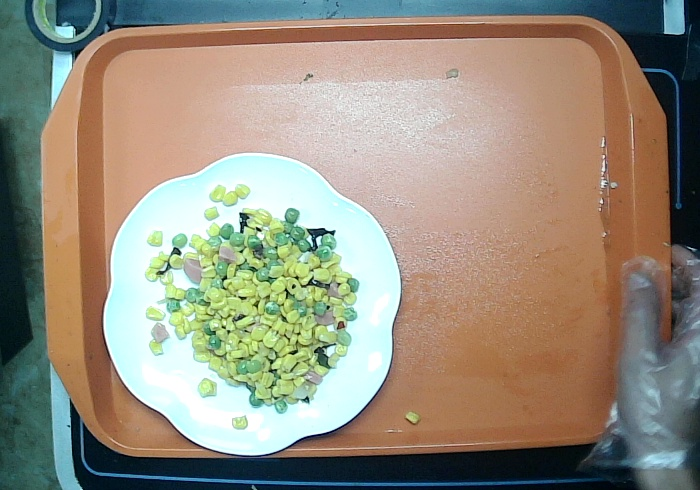HZYJPL-Bai_Se_Hua_Duo_Wan: (101, 150, 403, 455)
